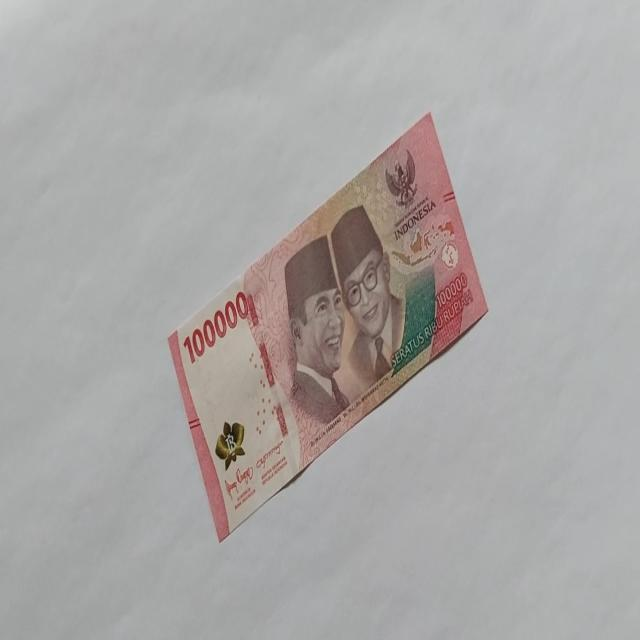seratus ribu rupiah: (167, 110, 489, 542)
